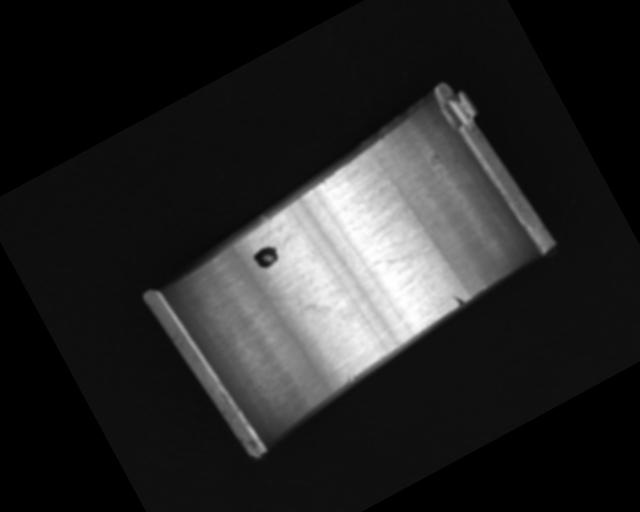blot: (266, 270, 334, 335), (250, 241, 283, 273)
bruise: (451, 291, 466, 308), (345, 374, 356, 385)
